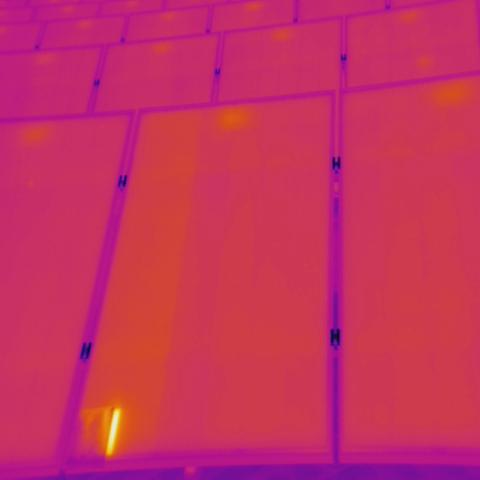fault: (61, 403, 128, 460)
